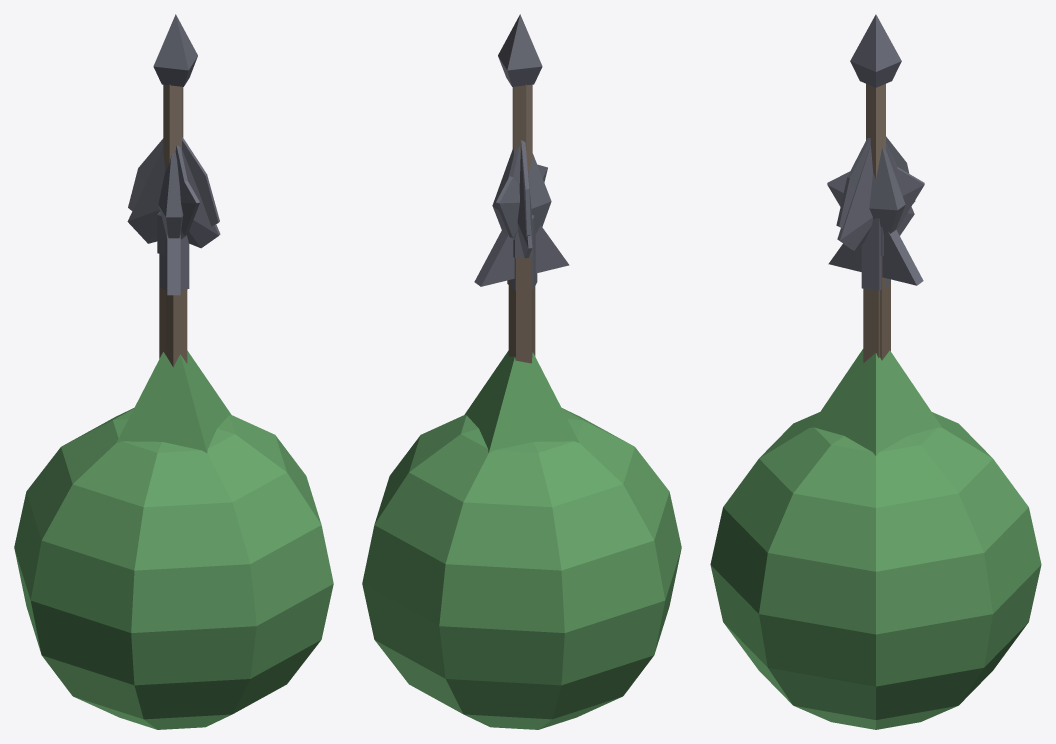
File: tower-projectiles.fbx
The picture shows the model from 3 angles, left to right: view 1: azimuth 30°, elevation 25°; view 2: azimuth 150°, elevation 25°; view 3: azimuth 270°, elevation 25°; orthographic projection.
Parts seen in each view (by area): view 1: wizard_shell, poison_shell, Archer_shell_LVL_4, Ballista_shell, Archer_shell_LVL_3, Archer_shell_LVL_2, Archer_tower_LVL_1; view 2: wizard_shell, poison_shell, Archer_shell_LVL_4, Ballista_shell, Archer_shell_LVL_2, Archer_tower_LVL_1, Archer_shell_LVL_3; view 3: wizard_shell, poison_shell, Archer_shell_LVL_4, Ballista_shell, Archer_shell_LVL_3, Archer_shell_LVL_2, Archer_tower_LVL_1.
Boxes of the visible parts, x1,y1,x2,y2 form: wizard_shell: (14, 408, 333, 729); poison_shell: (116, 350, 231, 452); Archer_shell_LVL_4: (158, 152, 189, 367); Ballista_shell: (153, 14, 197, 170); Archer_shell_LVL_3: (127, 148, 220, 251); Archer_shell_LVL_2: (128, 137, 219, 358); Archer_tower_LVL_1: (159, 145, 199, 252); wizard_shell: (362, 408, 681, 729); poison_shell: (464, 350, 579, 452); Archer_shell_LVL_4: (474, 147, 569, 355); Ballista_shell: (498, 14, 542, 171); Archer_shell_LVL_2: (508, 140, 534, 363); Archer_tower_LVL_1: (496, 146, 547, 239); Archer_shell_LVL_3: (517, 150, 535, 258); wizard_shell: (710, 412, 1041, 729); poison_shell: (809, 349, 942, 455); Archer_shell_LVL_4: (828, 147, 923, 362); Ballista_shell: (850, 14, 901, 178); Archer_shell_LVL_3: (837, 145, 914, 357); Archer_shell_LVL_2: (836, 136, 915, 360); Archer_tower_LVL_1: (827, 144, 924, 252).
Bounding box in the file's own units: 149 × 347 × 149.
